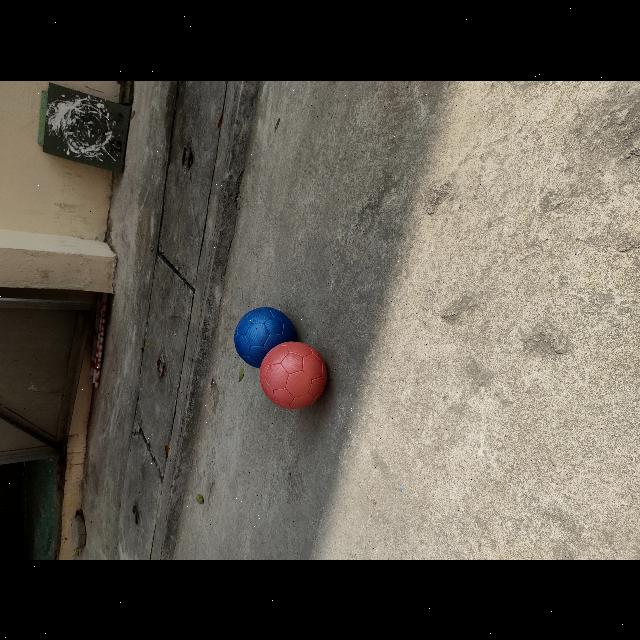B: (234, 306, 295, 368)
R: (260, 341, 327, 410)
